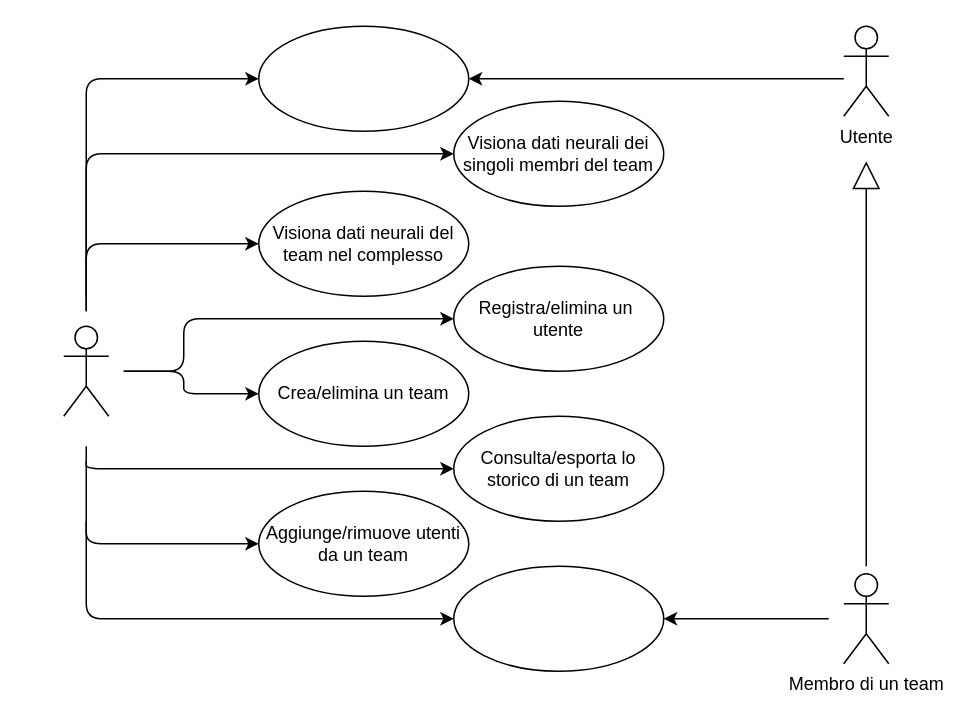
Some shapes in this 969 by 722 pixel diagram are drawn without their labels. The shapes that lost their labels are listed below. From the top down, each one's box as (x1, y1, x2, y2) in pixels, then its label:
(257, 25, 469, 131): Login
(62, 325, 109, 416): Team manager
(452, 565, 664, 671): Fa partire/interrompe l'invio di segnali neurali
